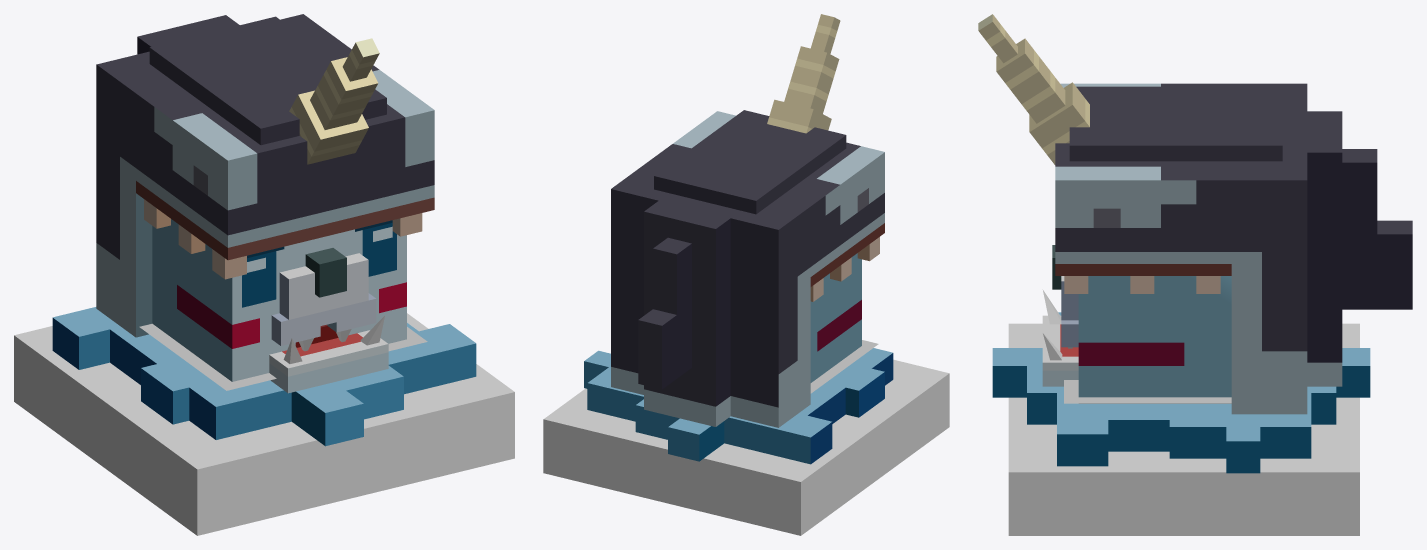
The model's file is Tower_Polar_L5.fbx.
3 views of the same model, side by side, from view 1: azimuth 30°, elevation 25°; view 2: azimuth 150°, elevation 25°; view 3: azimuth 270°, elevation 25° (orthographic). The views are drawn at different scales.
Parts seen in each view (by area): view 1: whale, Base, Body, Platform, Horn, Jaw, teeth, Shadow; view 2: whale, Base, Platform, Horn, Body, teeth, Shadow; view 3: whale, Base, Platform, Body, Horn, Jaw, Shadow, teeth.
Boxes of the visible parts, x1,y1,x2,y2 form: whale: [96, 14, 434, 337]; Base: [14, 313, 514, 535]; Body: [152, 219, 406, 381]; Platform: [52, 307, 476, 446]; Horn: [289, 38, 379, 164]; Jaw: [269, 330, 388, 393]; teeth: [144, 199, 422, 279]; Shadow: [139, 323, 427, 390]; whale: [611, 110, 884, 427]; Base: [543, 359, 949, 535]; Platform: [584, 348, 893, 464]; Horn: [767, 14, 840, 133]; Body: [810, 253, 861, 382]; teeth: [810, 237, 879, 301]; Shadow: [810, 340, 878, 393]; whale: [1055, 83, 1412, 414]; Base: [1008, 323, 1359, 535]; Platform: [992, 312, 1370, 473]; Body: [1052, 245, 1231, 403]; Horn: [978, 14, 1089, 164]; Jaw: [1042, 315, 1078, 386]; Shadow: [1064, 380, 1231, 403]; teeth: [1064, 276, 1220, 293].
Bounding box in the file's own units: 101 × 139 × 124.
